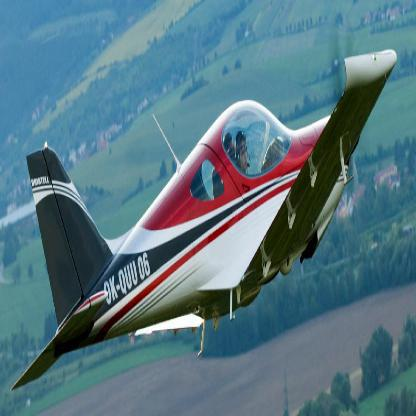CIV_Plane: (11, 45, 398, 379)
